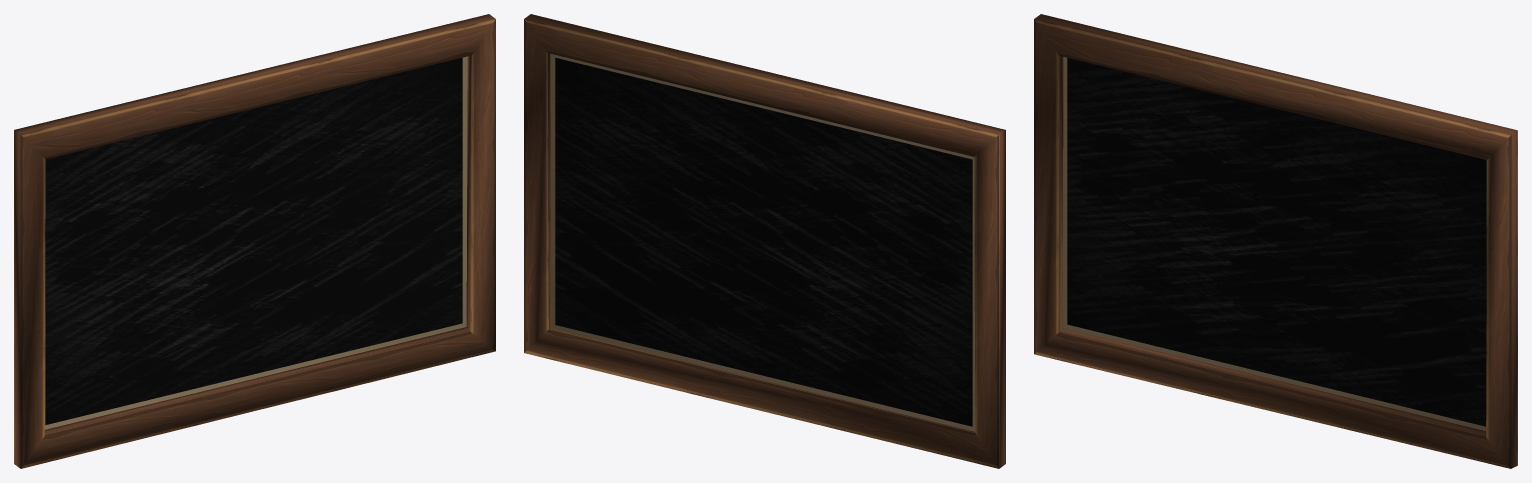
Rendered from menu_bg.glb.
3 renders of one model, left to right at view 1: azimuth 30°, elevation 25°; view 2: azimuth 150°, elevation 25°; view 3: azimuth 330°, elevation 25°, orthographic.
Parts seen in each view (by area): view 1: leaderboard_frame.004; view 2: leaderboard_frame.004; view 3: leaderboard_frame.004.
Boxes of the visible parts, bbox=[...] form: leaderboard_frame.004: bbox=[14, 14, 495, 468]; leaderboard_frame.004: bbox=[524, 14, 1005, 468]; leaderboard_frame.004: bbox=[1034, 14, 1517, 468].
Size of the model in its own units: 6.32 by 4.25 by 0.1574.
Materials: 2 (2 with a texture image).
